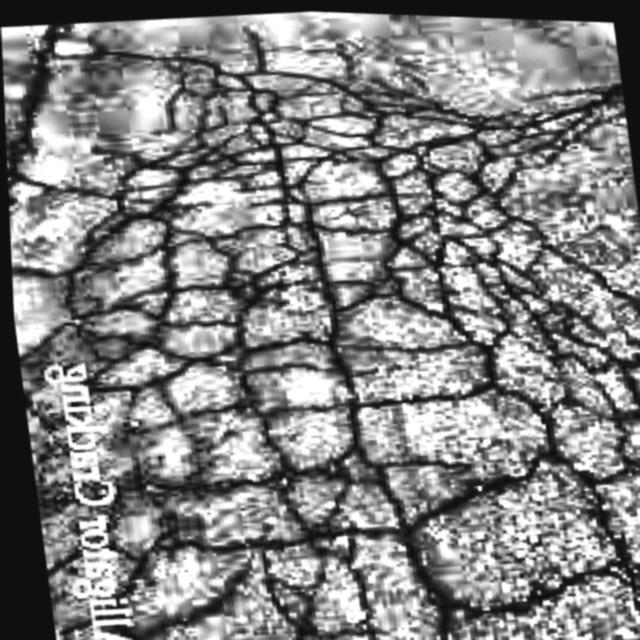Potholes: (141, 138, 514, 522)
